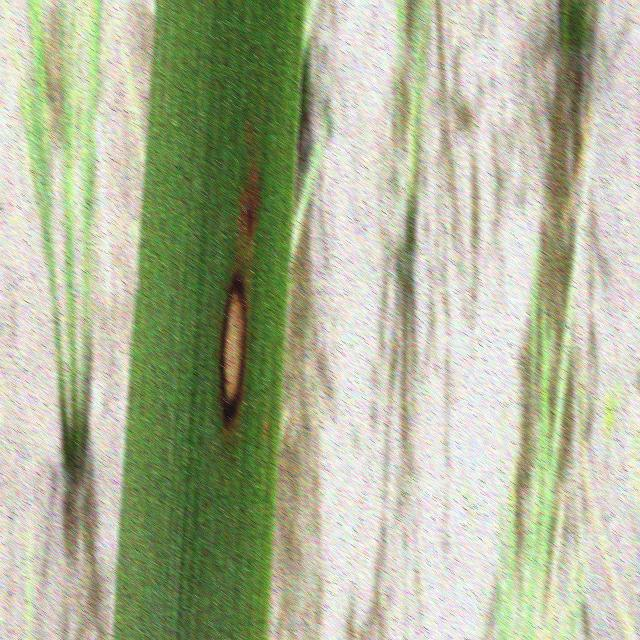LEAF BLAST: (219, 270, 247, 428)
